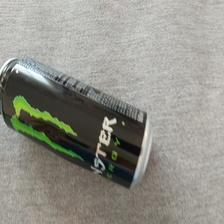Metal: (0, 56, 153, 192)
